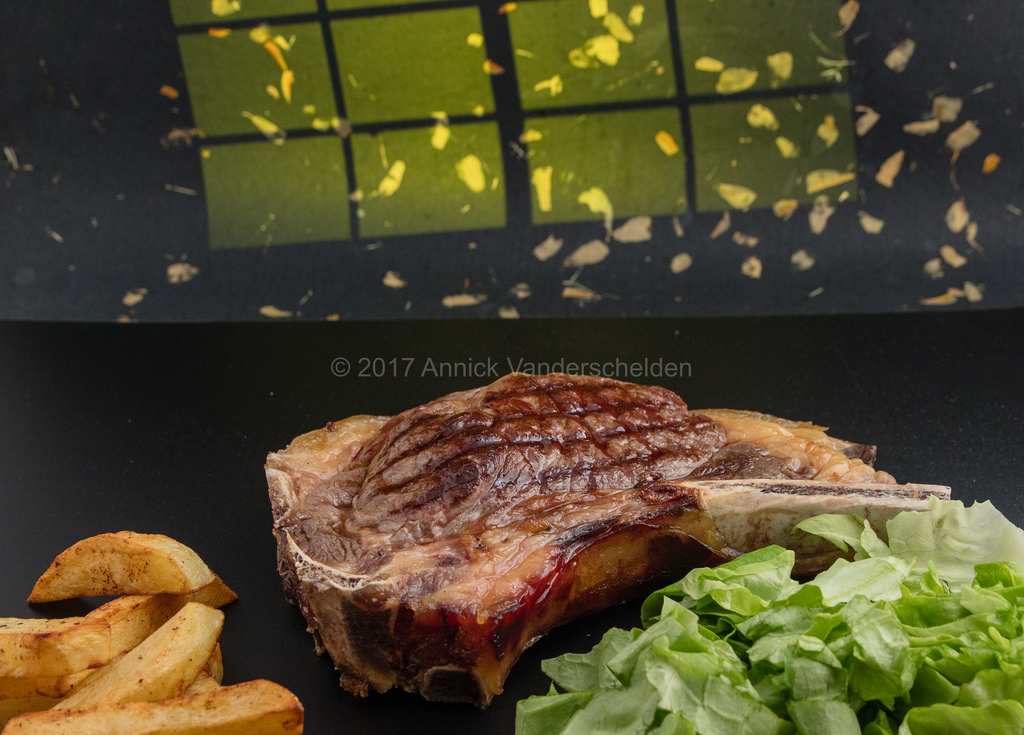chopped lettuce: (673, 582, 1024, 723)
